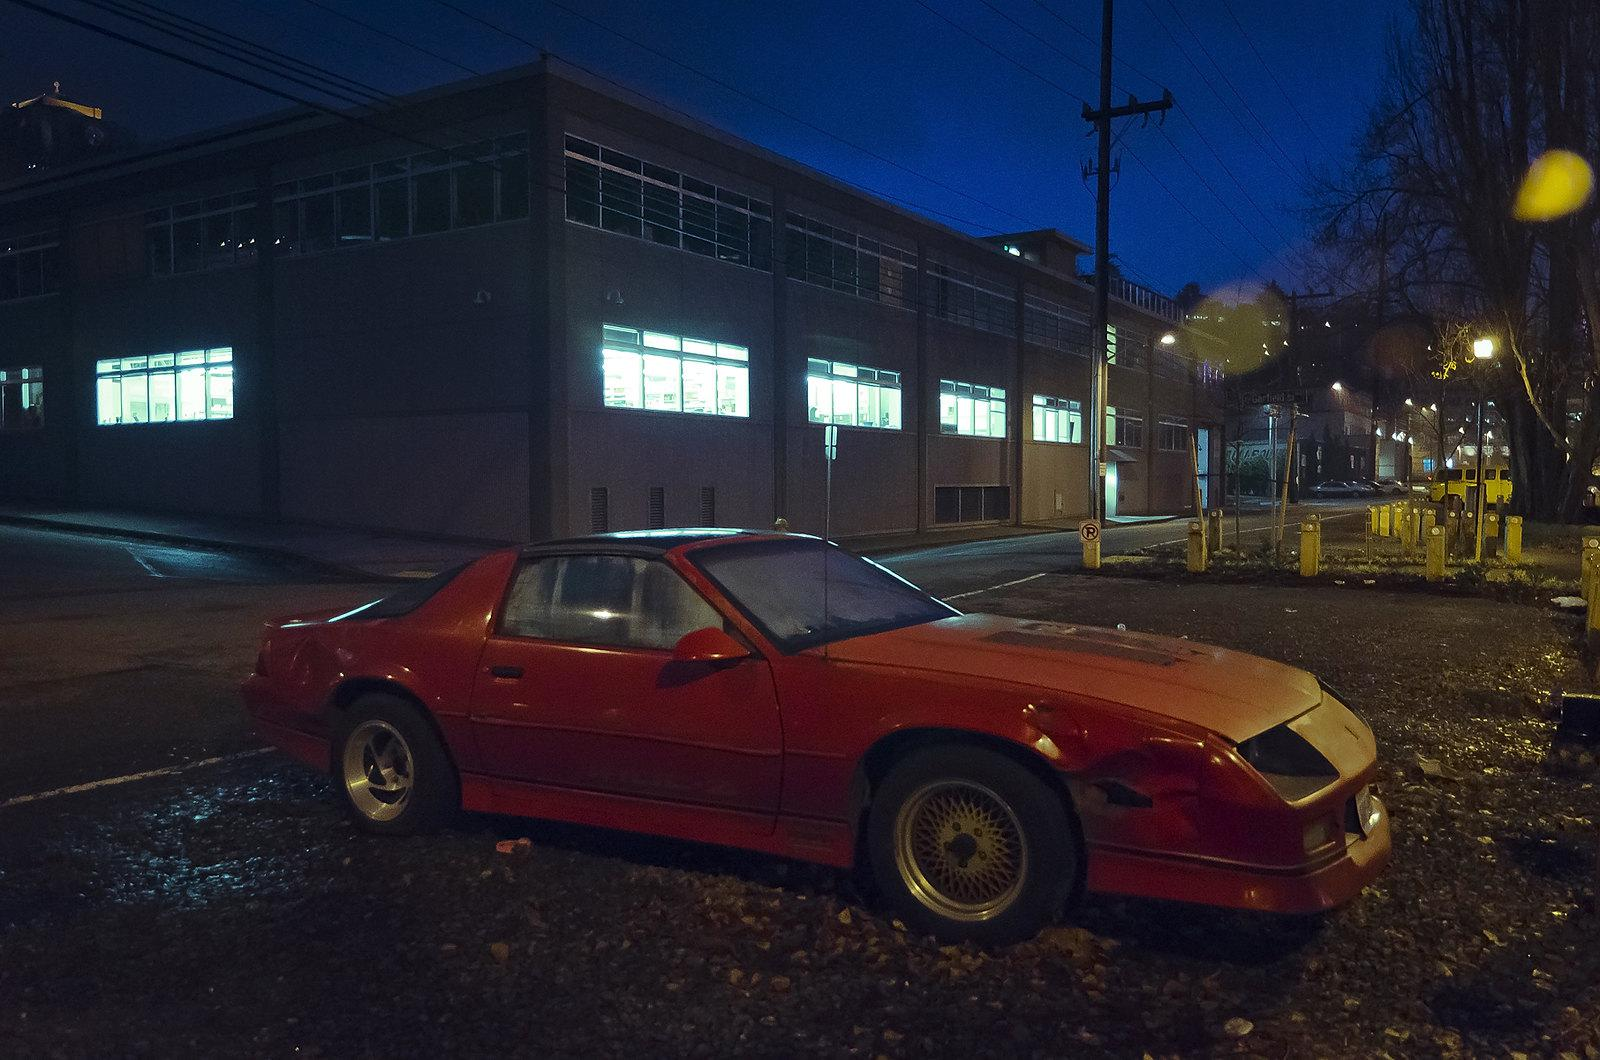fender-dent: (815, 653, 1207, 846)
front-bumper-dent: (1215, 727, 1437, 913)
quaterpanel-dent: (231, 617, 479, 770)
